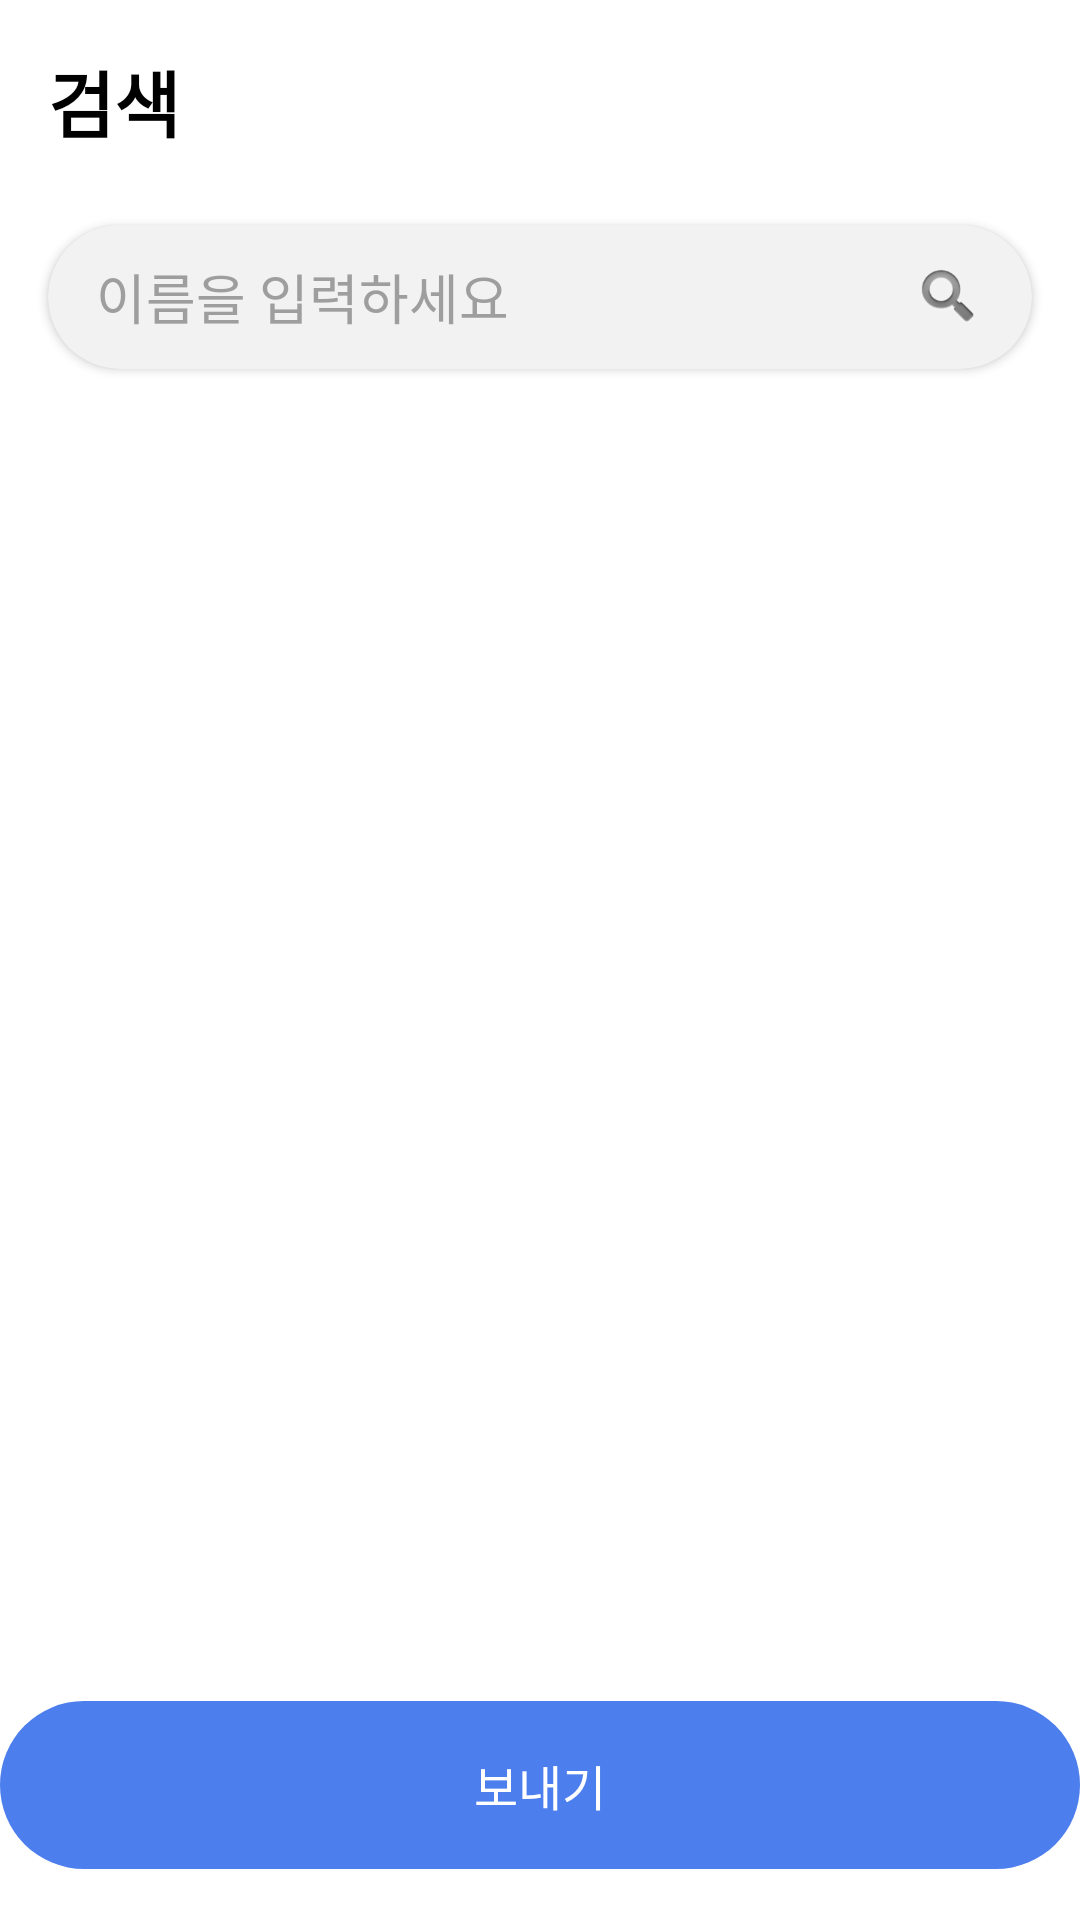

Icon bounding boxes for this 1080 x 1920 phone screenshot, format bbox(x1, y1, x2, y2):
search category: bbox(922, 270, 974, 322)
